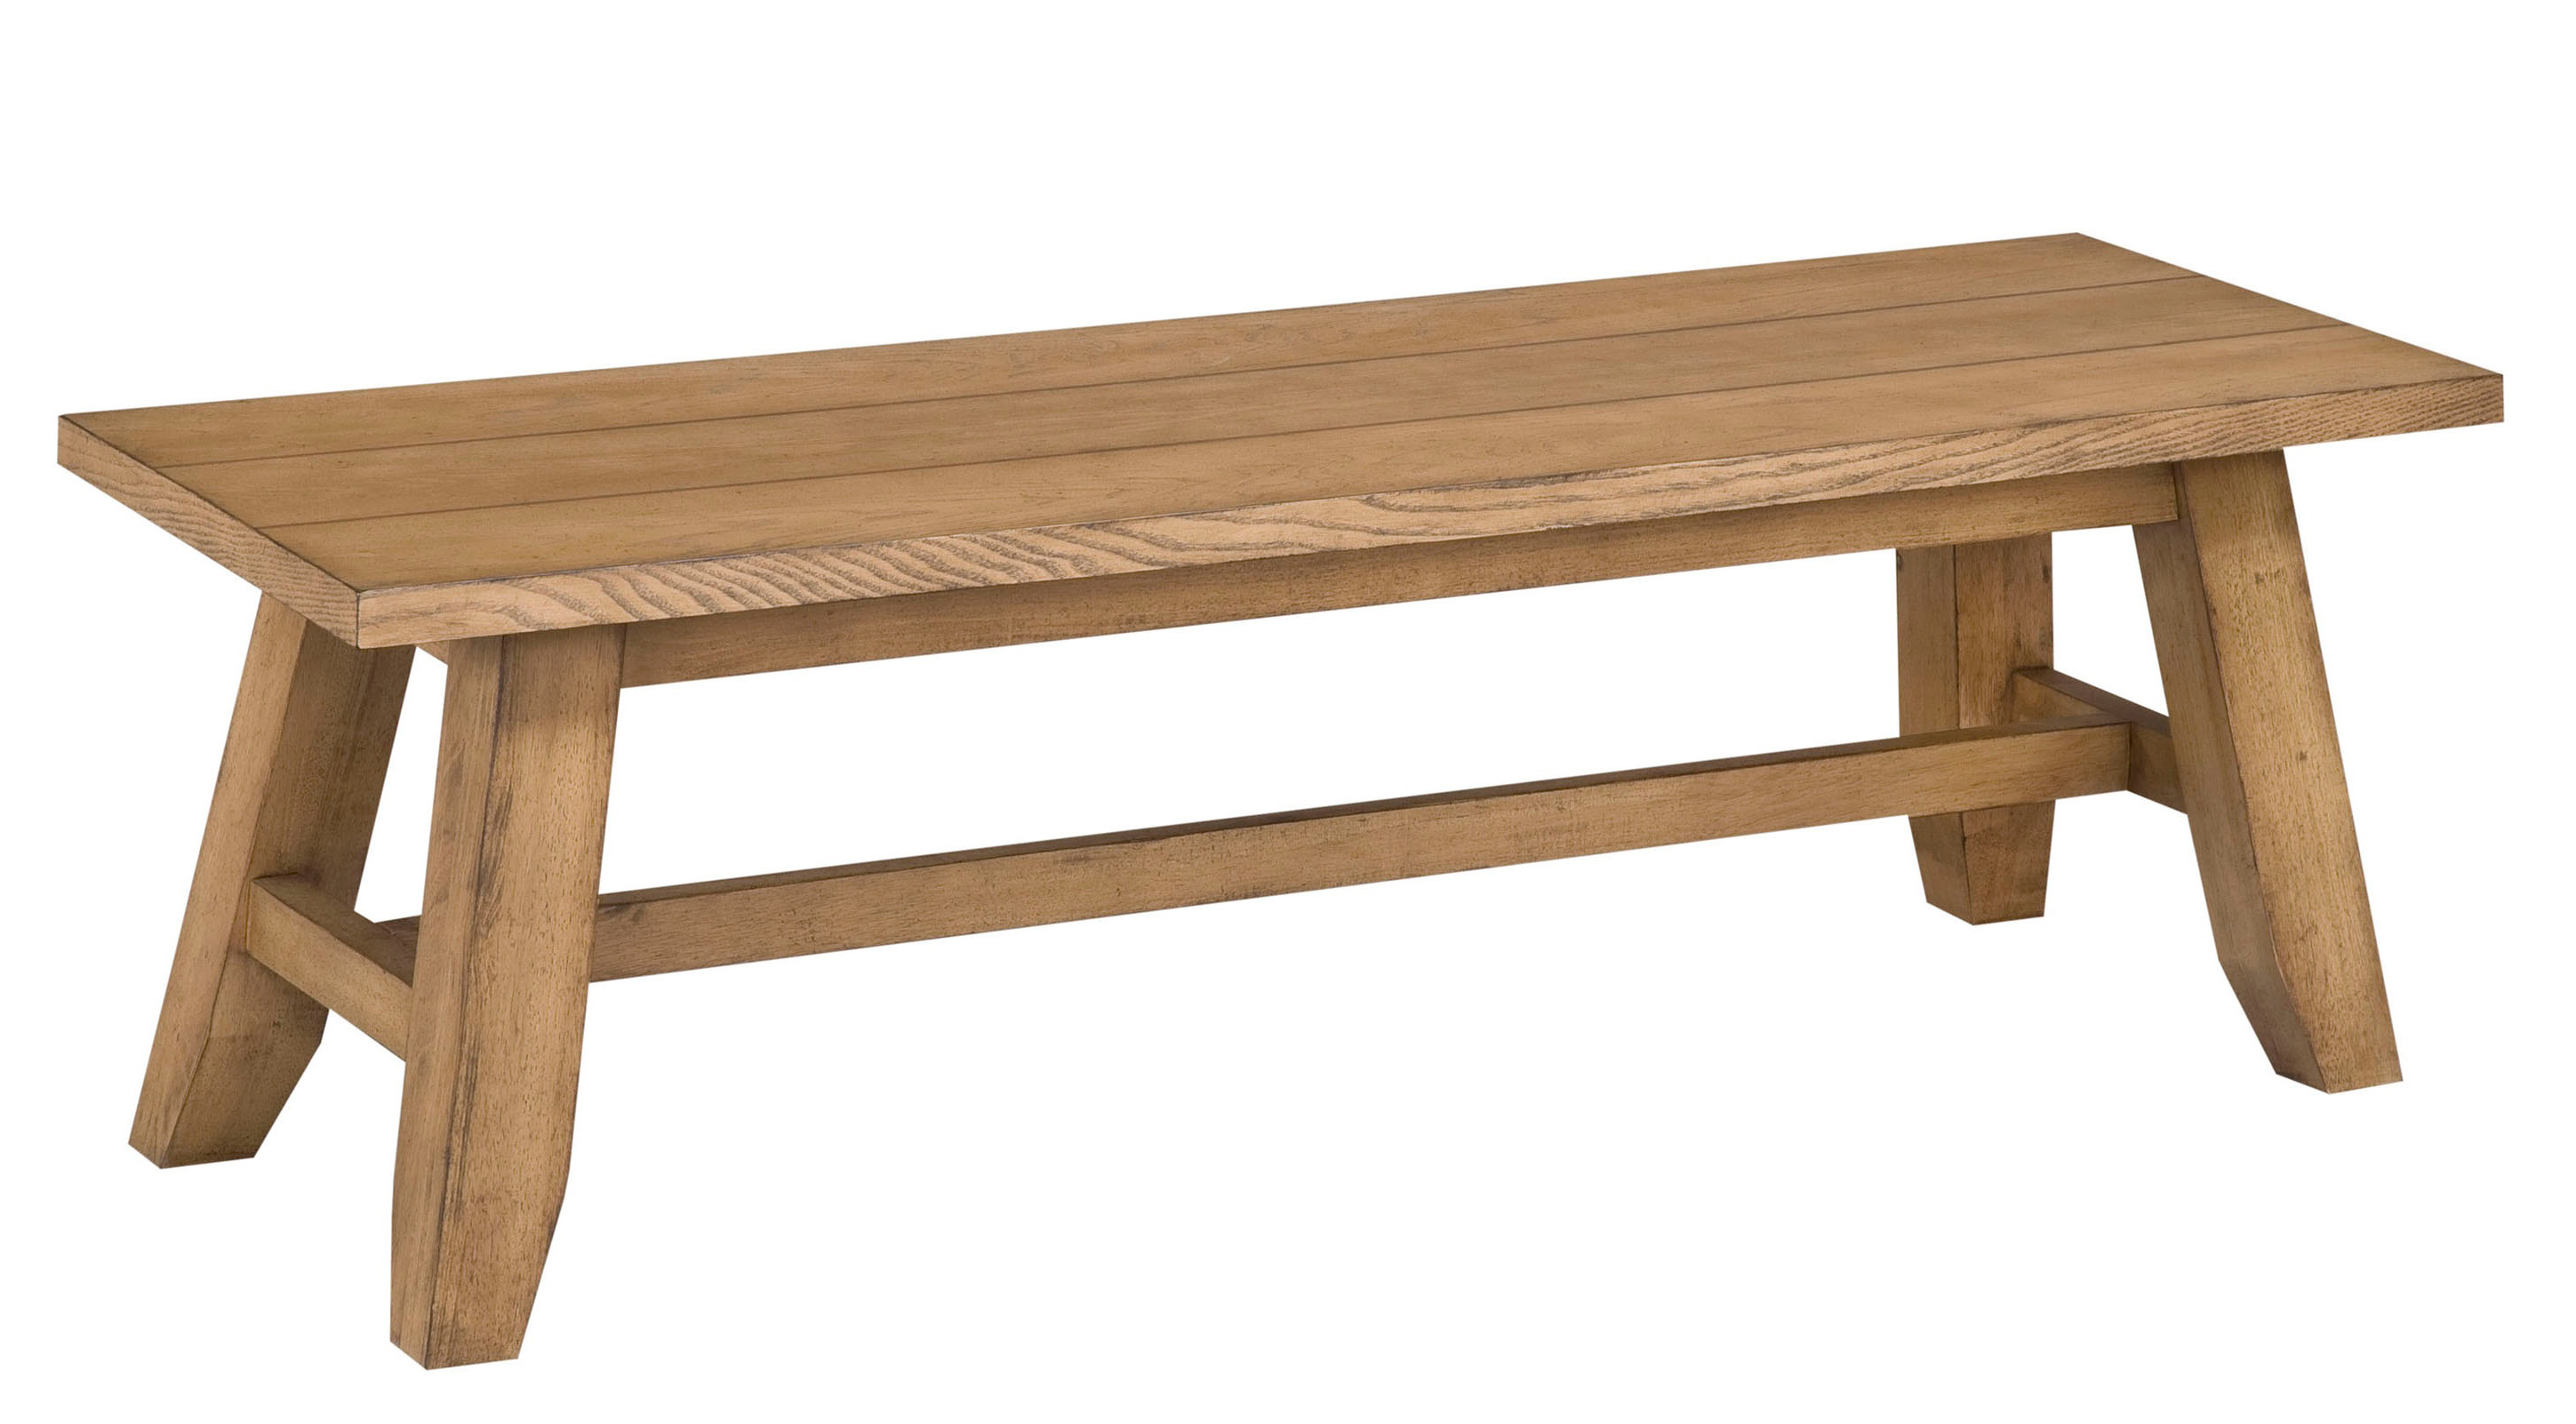chairs: (40, 233, 2509, 1370)
